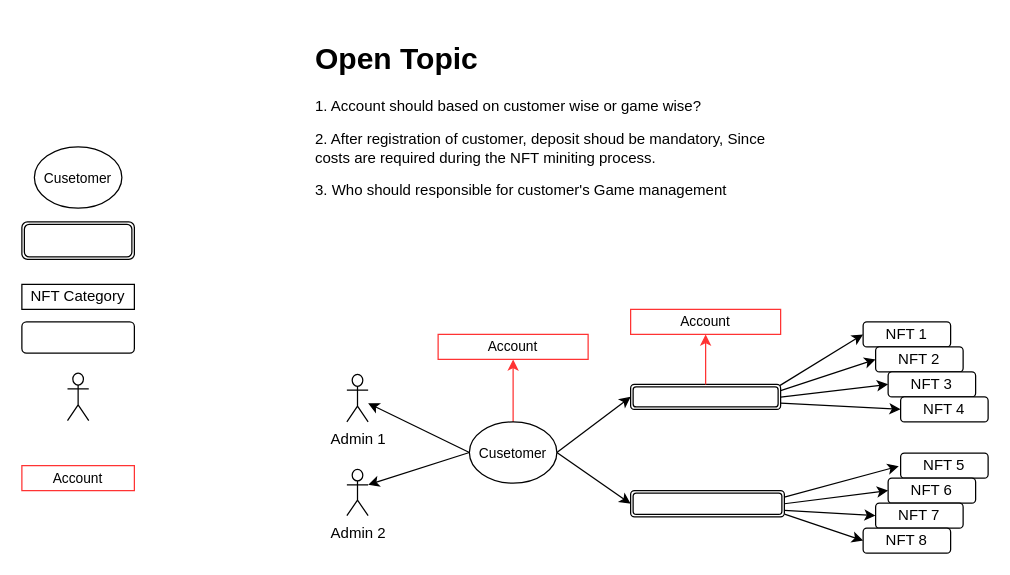
The diagram is 1010 pixels wide and 575 high, and some of its shapes have lost their labels. The box of each missing label's shape, as (x1, y1, x2, y2) in pixels:
Admin: (66, 372, 89, 421)
Game: (21, 221, 134, 259)
Game1: (629, 383, 781, 409)
Game2: (629, 489, 784, 517)
NFT: (21, 321, 134, 353)
